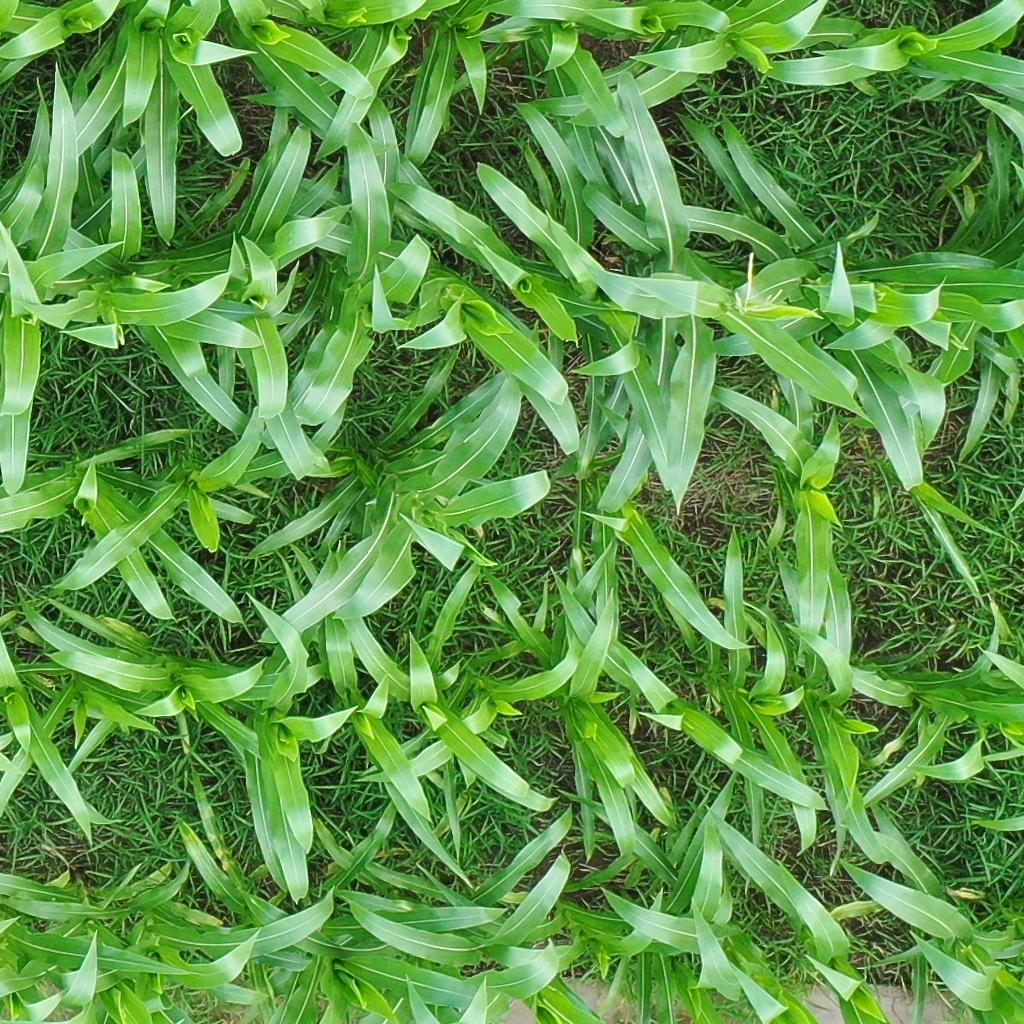Tassel: (731, 245, 787, 321)
